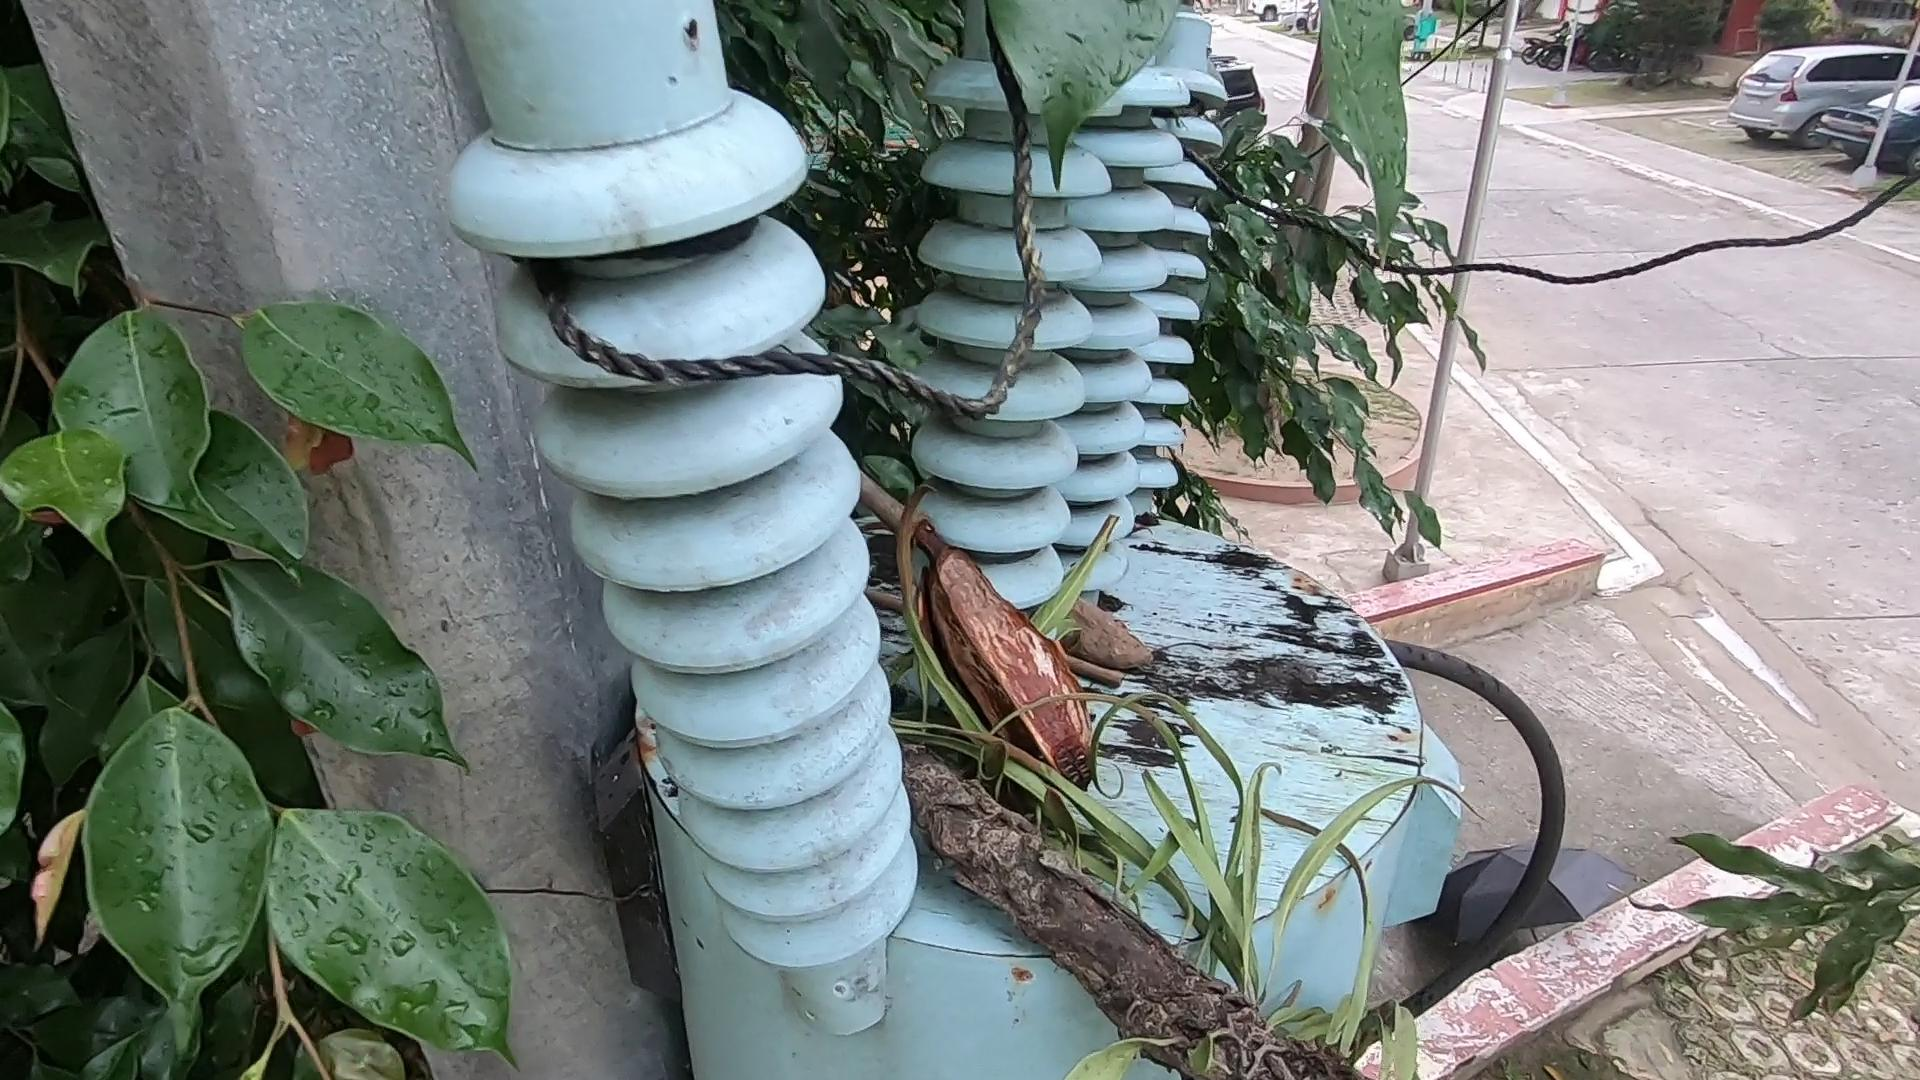branch with leaves: (889, 646, 1422, 1080)
mahogany fruit: (893, 531, 1141, 822), (1035, 574, 1158, 702)
tree branch: (849, 442, 975, 661), (1036, 605, 1178, 735)
